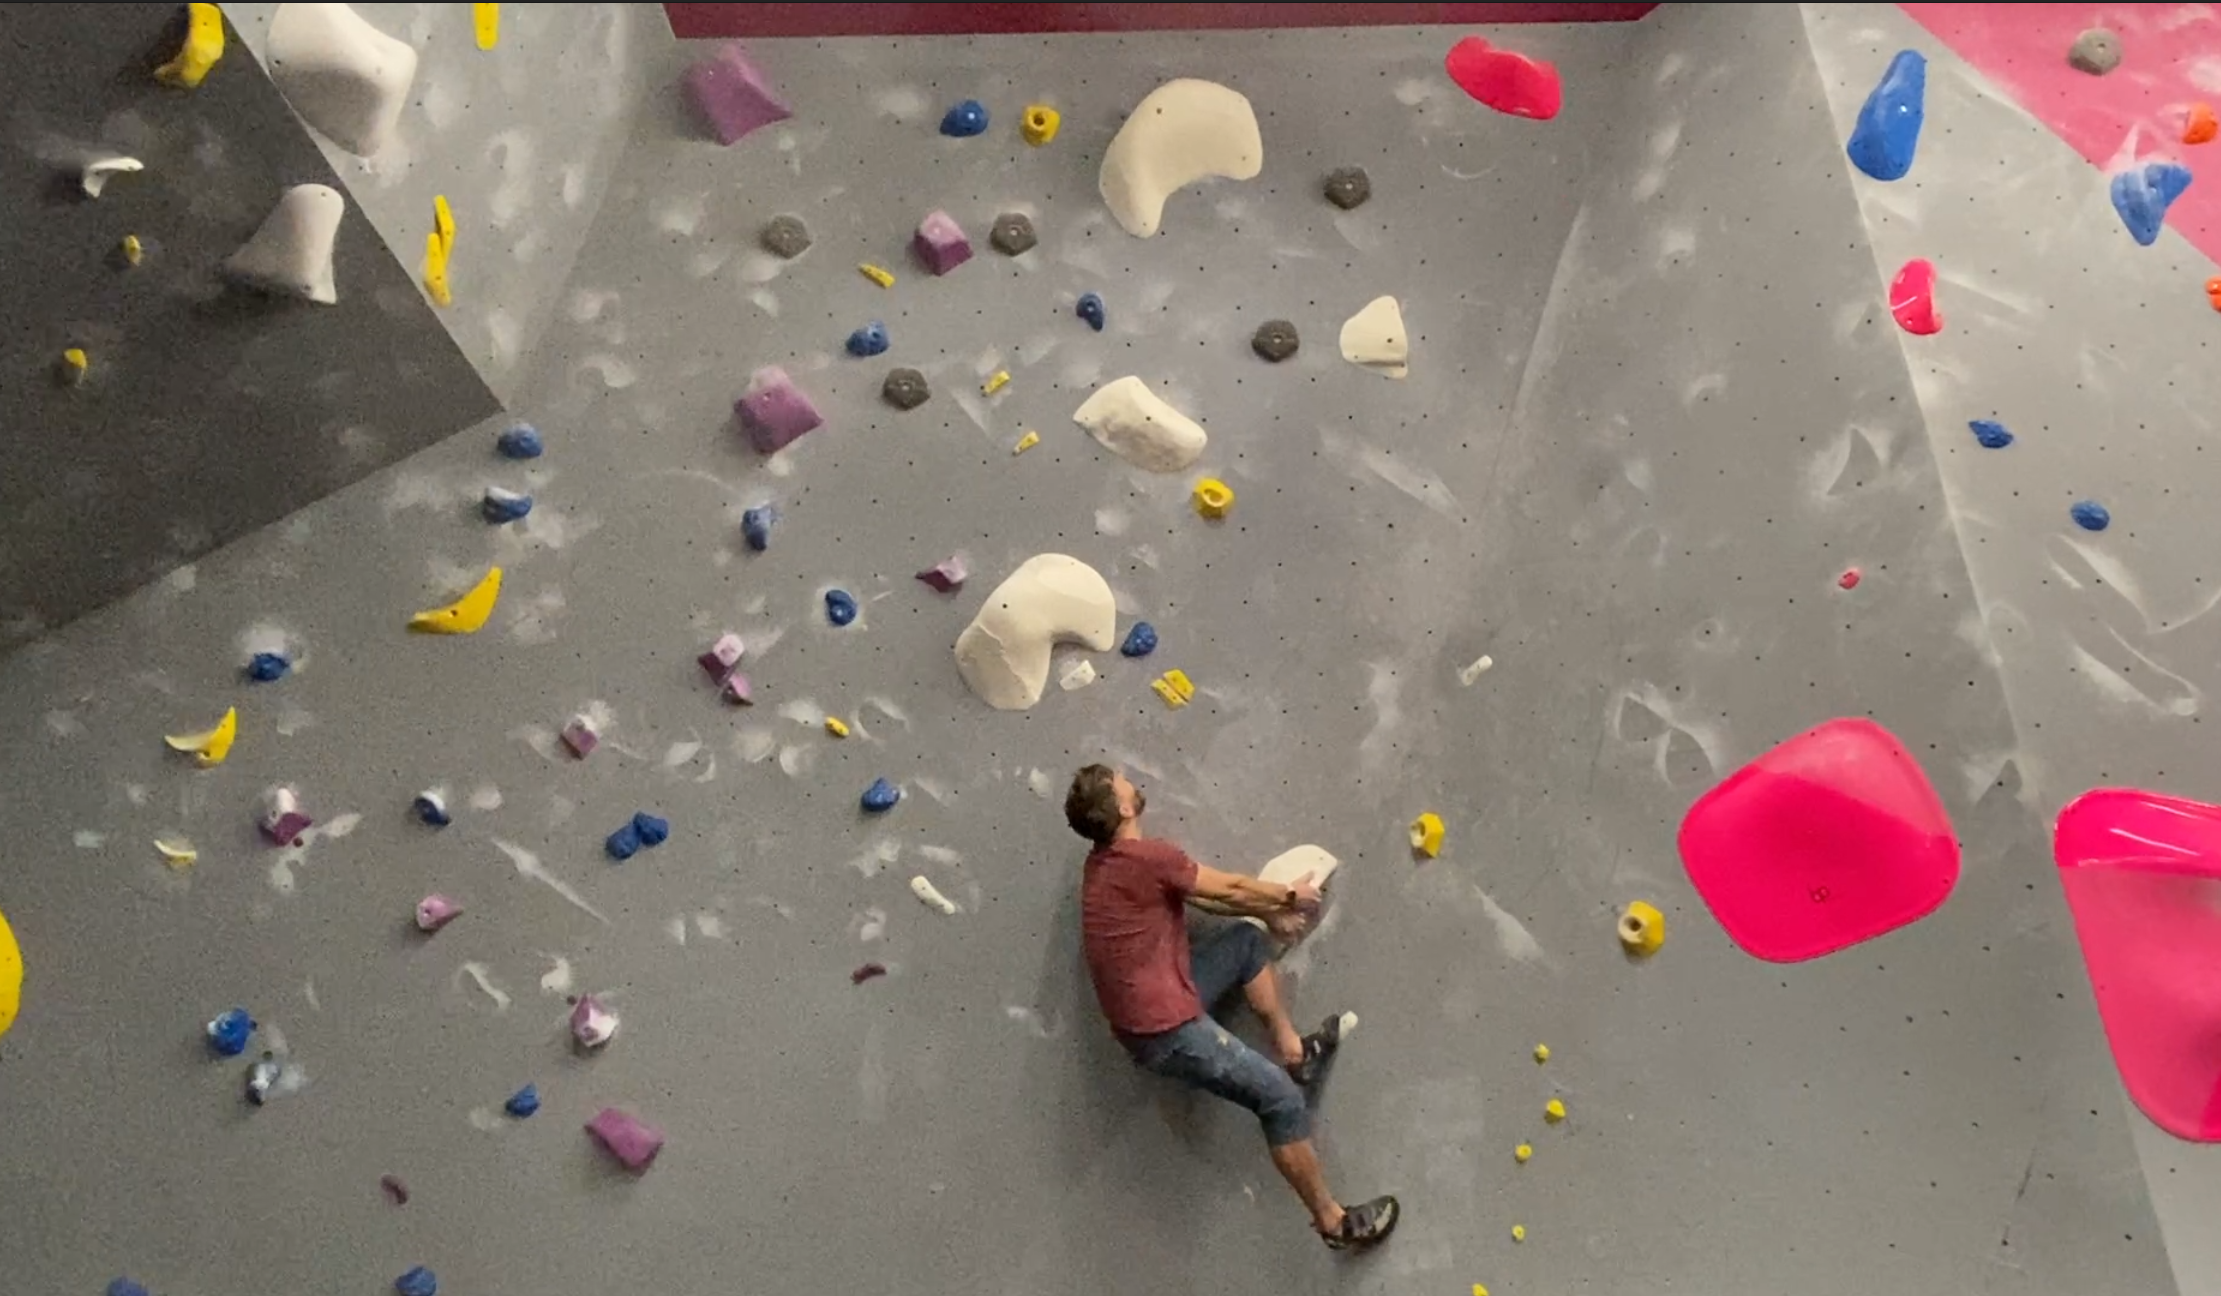hold: (1663, 705, 1968, 974), (1090, 65, 1271, 242), (942, 543, 1120, 716), (247, 2, 416, 168), (211, 171, 362, 313), (1067, 369, 1211, 480), (1441, 31, 1573, 139), (671, 40, 804, 147), (1840, 45, 1936, 187), (730, 353, 827, 464), (406, 560, 514, 653), (2101, 153, 2199, 248), (1333, 287, 1421, 383), (151, 700, 251, 771), (1886, 248, 1956, 350), (580, 1099, 668, 1176), (159, 2, 228, 96), (905, 207, 976, 282), (254, 787, 322, 856), (413, 225, 463, 315), (72, 145, 142, 207), (560, 987, 620, 1058), (474, 477, 543, 535), (201, 1007, 265, 1068), (932, 89, 993, 151), (143, 827, 214, 879), (1612, 896, 1670, 960), (413, 883, 470, 947), (239, 1052, 296, 1115), (554, 708, 611, 767), (902, 873, 970, 920), (1400, 807, 1453, 866), (242, 642, 301, 694), (1188, 471, 1240, 528), (839, 316, 899, 366), (736, 500, 785, 559), (694, 629, 748, 682), (406, 784, 457, 839), (1067, 285, 1117, 339), (2068, 494, 2125, 540), (57, 339, 97, 400), (1965, 413, 2020, 457), (426, 185, 463, 250), (500, 1077, 551, 1123), (490, 427, 554, 464), (1020, 100, 1067, 147), (597, 818, 646, 862), (1456, 651, 1502, 697), (1143, 676, 1191, 721), (859, 778, 908, 818), (622, 808, 672, 847), (1053, 657, 1100, 699), (824, 585, 865, 629), (373, 1166, 413, 1211), (2179, 105, 2216, 153), (116, 227, 151, 275), (1160, 667, 1201, 707), (999, 427, 1046, 461), (845, 957, 893, 987), (854, 259, 896, 293), (976, 363, 1013, 400), (720, 677, 759, 710), (1831, 562, 1865, 597), (821, 713, 858, 745), (1538, 1095, 1575, 1126), (1527, 1038, 1556, 1068), (1508, 1139, 1538, 1166), (1505, 1219, 1528, 1248)
